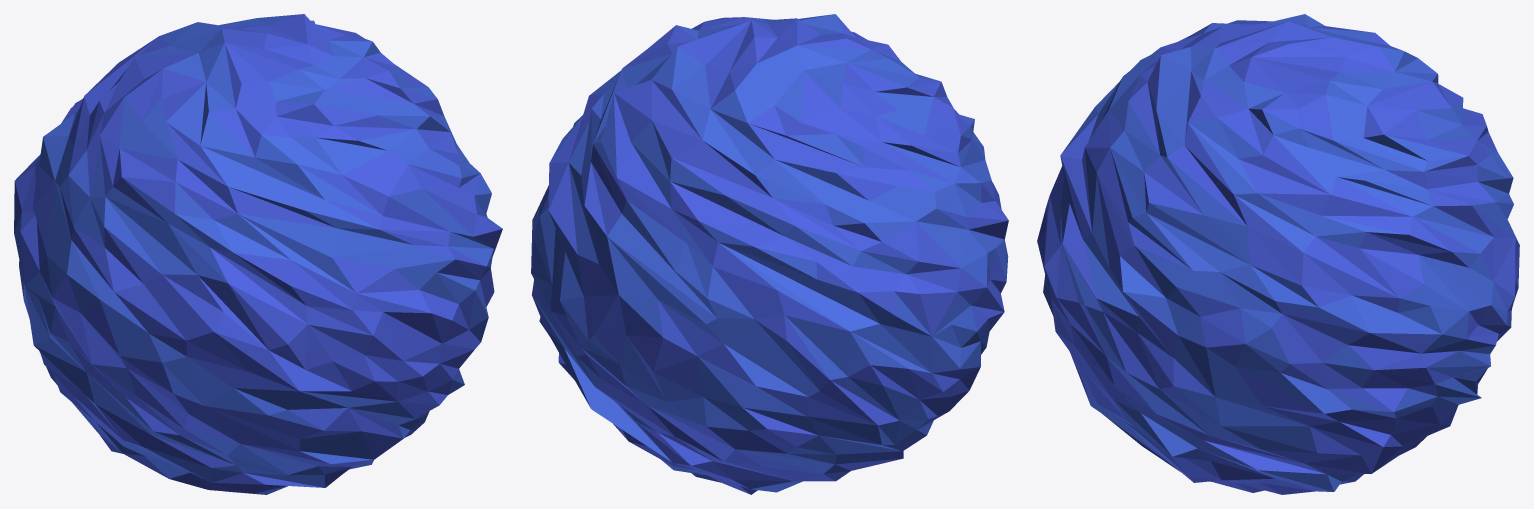
The model's file is Neptune.obj.
3 views of the same model, side by side, from view 1: azimuth 30°, elevation 25°; view 2: azimuth 150°, elevation 25°; view 3: azimuth 270°, elevation 25° (orthographic).
Visible parts, largest first — view 1: Neptune; view 2: Neptune; view 3: Neptune.
Boxes of the visible parts, bbox=[...] form: Neptune: bbox=[14, 14, 502, 494]; Neptune: bbox=[531, 14, 1008, 494]; Neptune: bbox=[1037, 14, 1519, 494].
Size of the model in its own units: 35.61 by 35.61 by 35.55.
